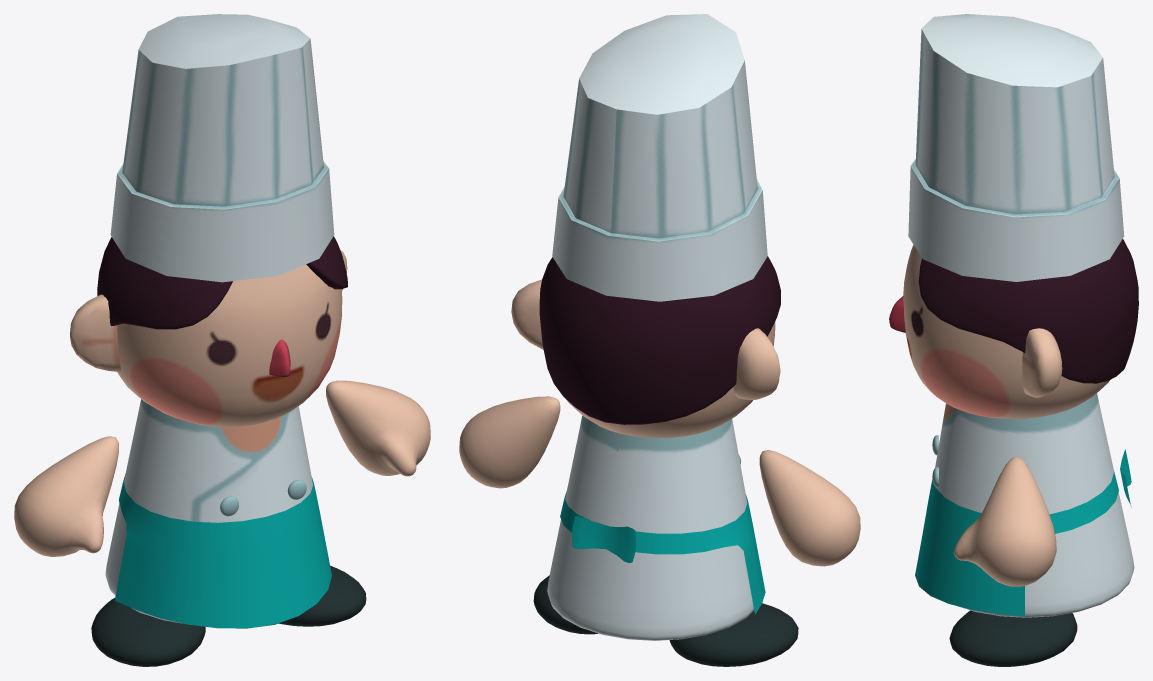
Rendered from Character1H.FBX.
3 views of the same model, side by side, from view 1: azimuth 30°, elevation 25°; view 2: azimuth 150°, elevation 25°; view 3: azimuth 270°, elevation 25° (orthographic). The views are drawn at different scales.
Visible parts, largest first — view 1: Cylinder005, Object001; view 2: Cylinder005, Object001; view 3: Cylinder005, Object001.
Boxes of the visible parts, bbox=[...] form: Cylinder005: bbox=[14, 236, 430, 666]; Object001: bbox=[110, 14, 334, 282]; Cylinder005: bbox=[459, 256, 860, 666]; Object001: bbox=[552, 14, 767, 301]; Cylinder005: bbox=[889, 239, 1138, 666]; Object001: bbox=[908, 14, 1124, 281].
Size of the model in its own units: 26.74 by 38.29 by 14.78.
